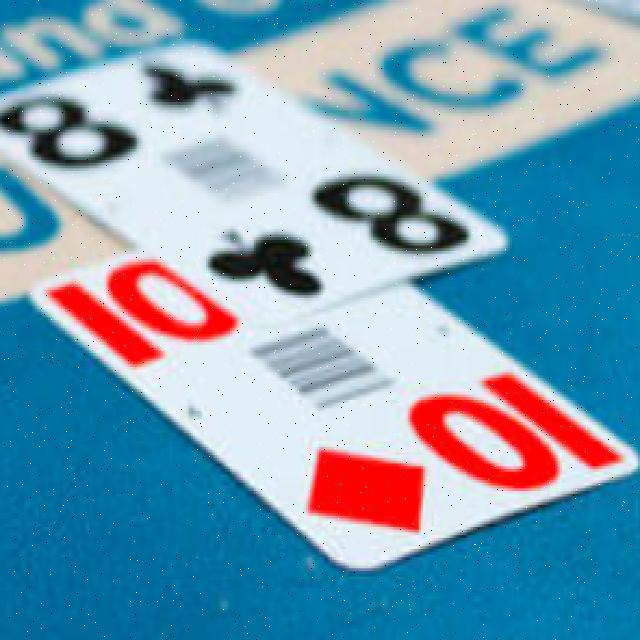Card-10: (29, 250, 639, 574)
Card-8: (2, 35, 509, 328)
